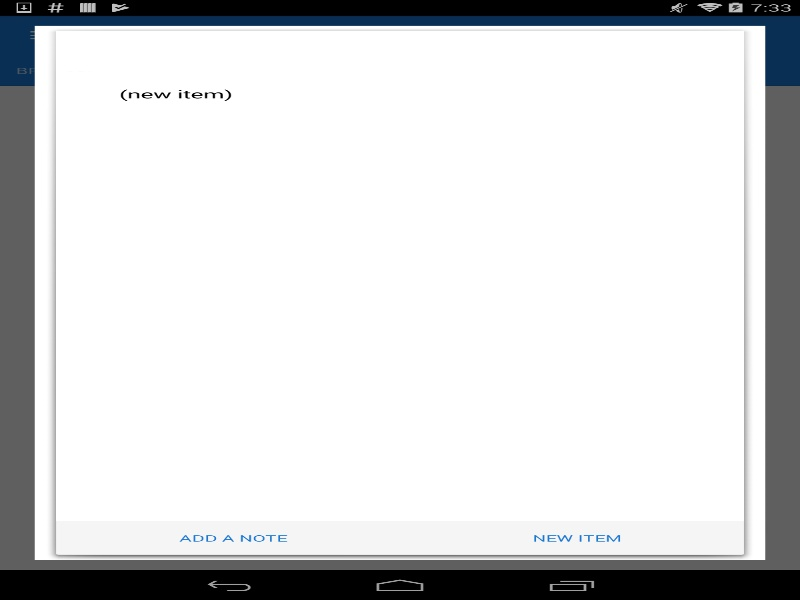Button: (56, 521, 409, 555), (409, 521, 744, 555)
Input: (77, 40, 722, 55)
